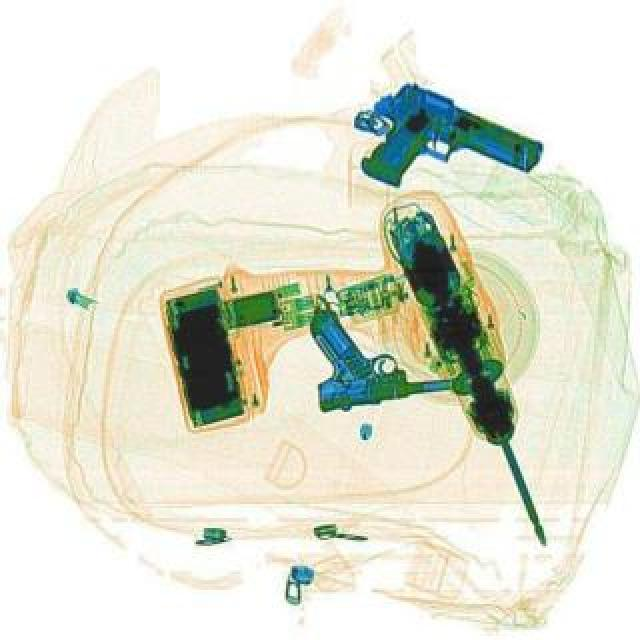gun: (328, 66, 548, 232), (302, 290, 472, 412)
